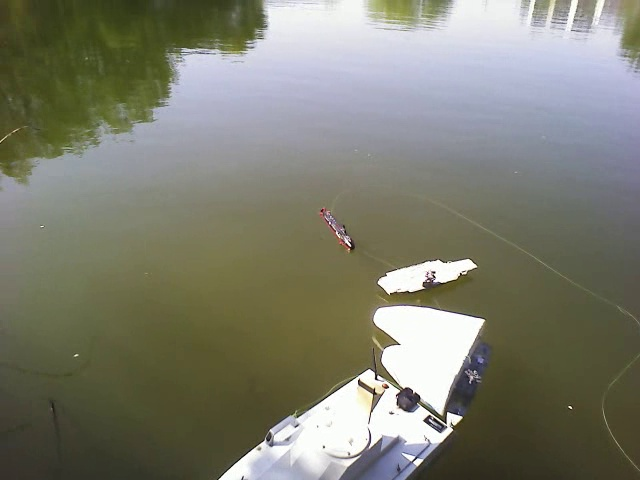aircraft_carrier: (374, 253, 478, 297)
boat: (209, 365, 455, 475)
iceberg: (372, 300, 498, 411)
submarine: (320, 204, 356, 253)
